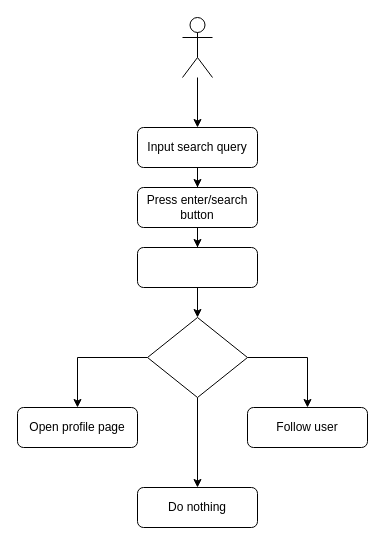
Some shapes in this 385 by 545 pixel diagram are drawn without their labels. Here are the shapes that lost their labels. From the top down, the box of each, then its label:
(182, 16, 212, 78): User
(136, 246, 258, 288): View Results
